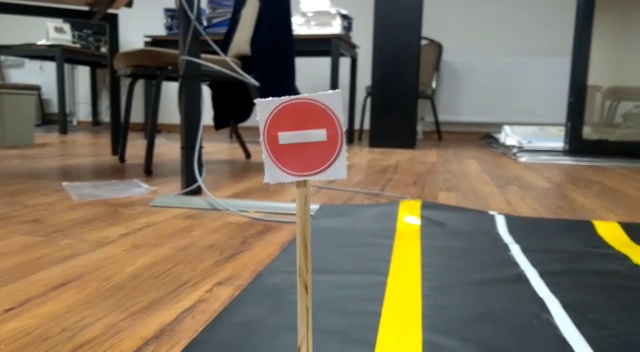girisi_olmayan_yol: (265, 95, 343, 178)
